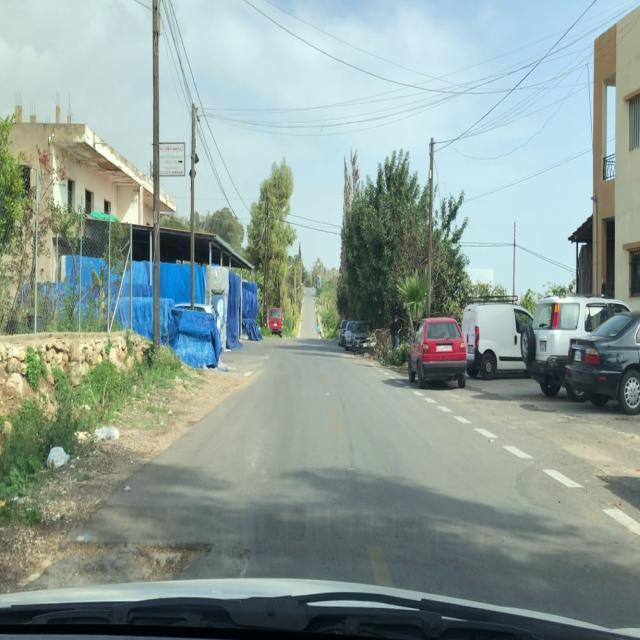pothole: (46, 536, 217, 591)
